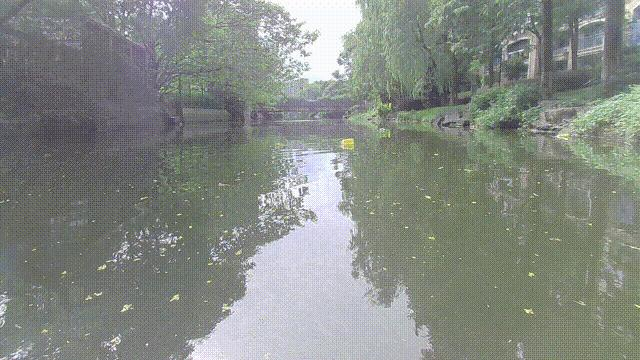Plastic: (556, 132, 571, 140), (340, 138, 354, 146), (469, 125, 479, 130), (378, 128, 385, 133)
